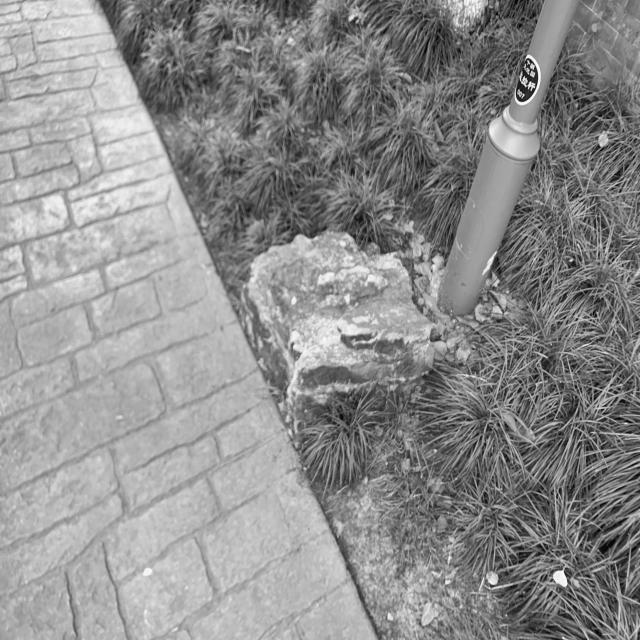Stone: (241, 232, 434, 432)
